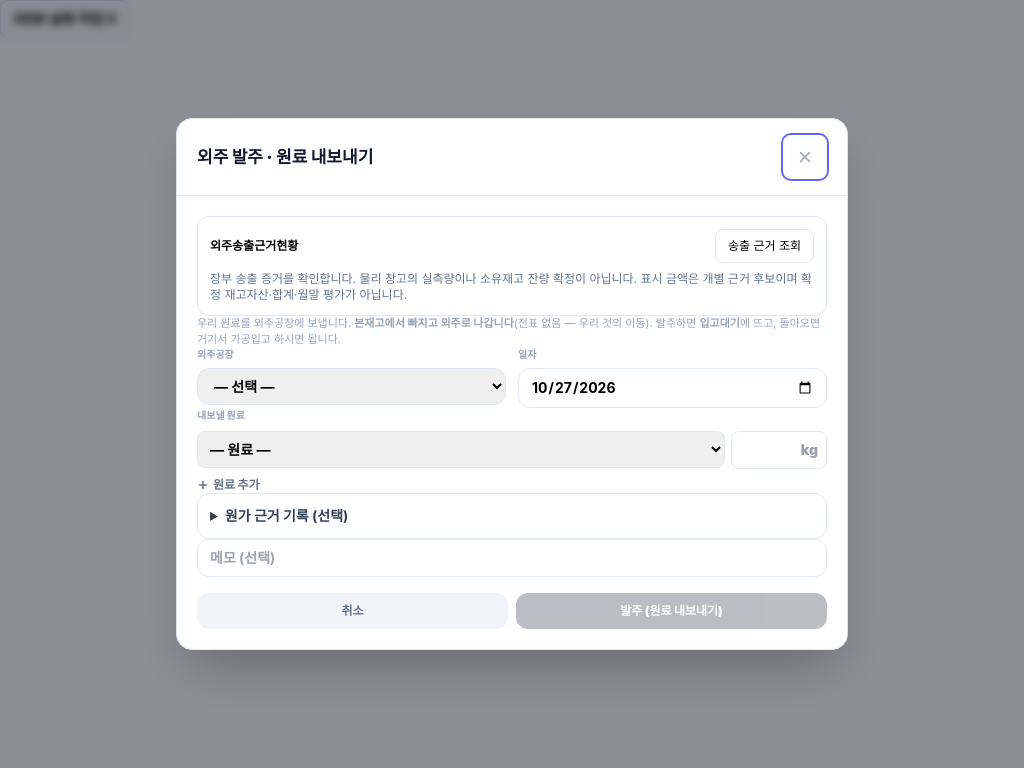
조회 중 중복 클릭은 요청 하나이며 실패는 미확인으로 유지한다
Click the button "송출 근거 조회".
click(764, 246)  # box [715,229,814,263]
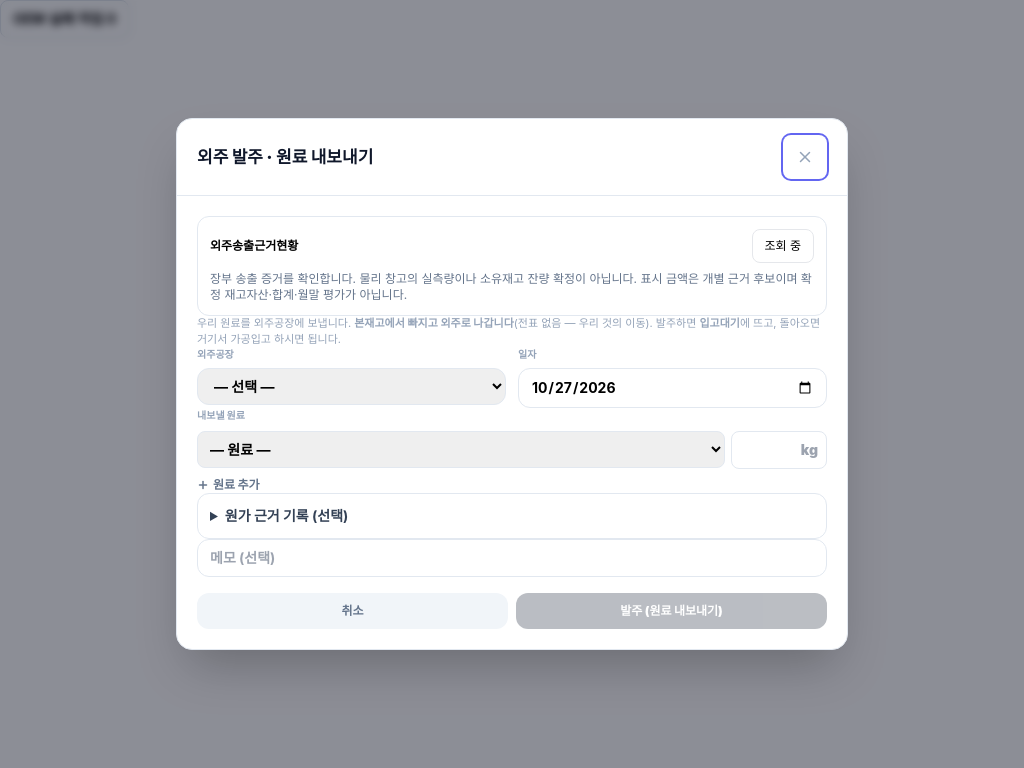
Click the button named "송출 근거 조회".
click(783, 246)  # box [752,229,814,263]
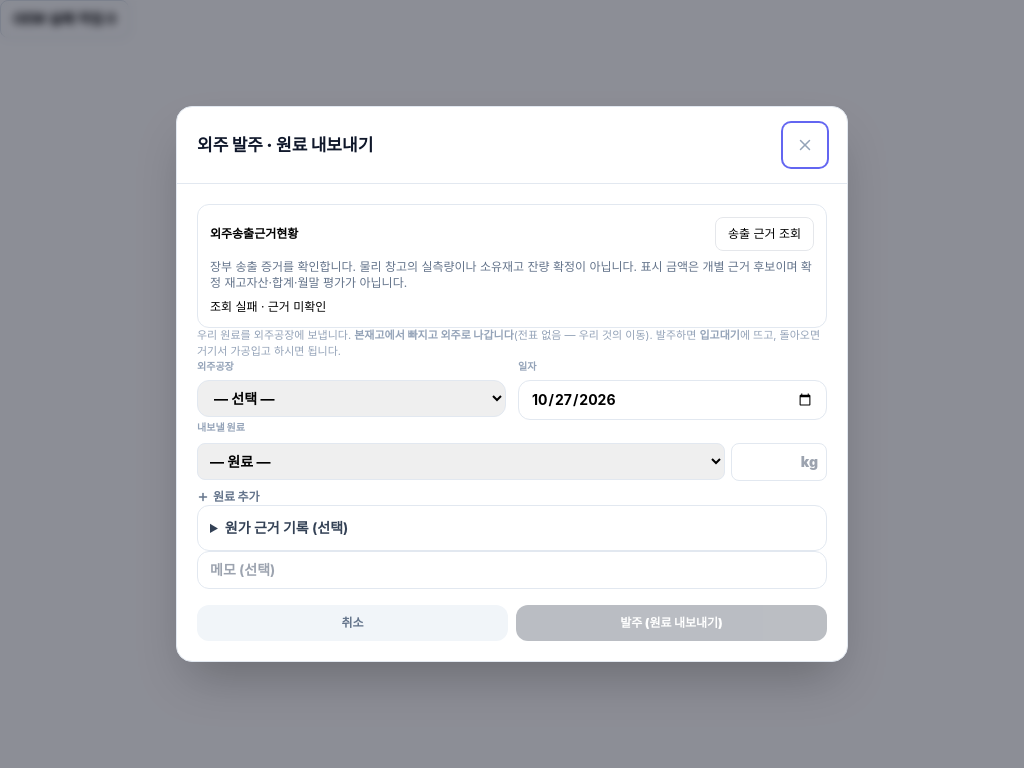
Now the message shows "근거 미확인", box [258,299,326,314]
